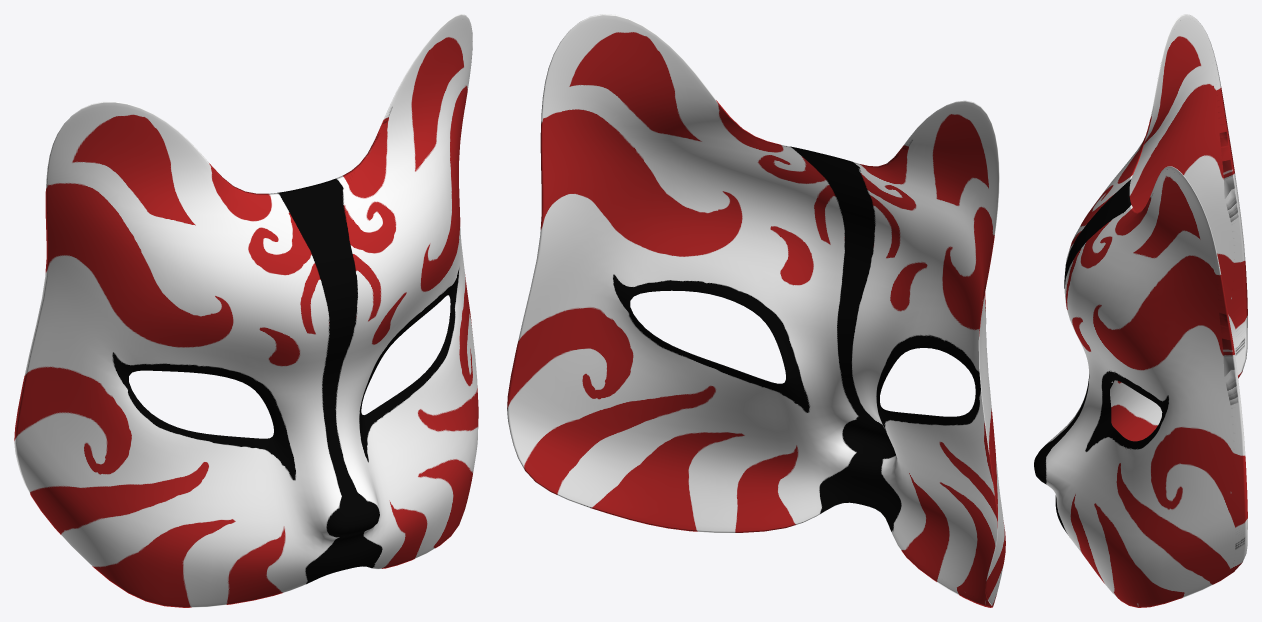
File: mascara_de_gato.glb
3 renders of one model, left to right at view 1: azimuth 30°, elevation 25°; view 2: azimuth 150°, elevation 25°; view 3: azimuth 270°, elevation 25°, orthographic. The views are drawn at different scales.
Parts seen in each view (by area): view 1: Plano.001_2; view 2: Plano.001_2; view 3: Plano.001_2.
Part boxes in pixels (<box>): Plano.001_2: <box>14,14,478,607</box>; Plano.001_2: <box>507,14,1005,607</box>; Plano.001_2: <box>1034,14,1247,607</box>.
Size of the model in its own units: 3.98 by 4.12 by 1.77.
Materials: 1 (1 with a texture image).
